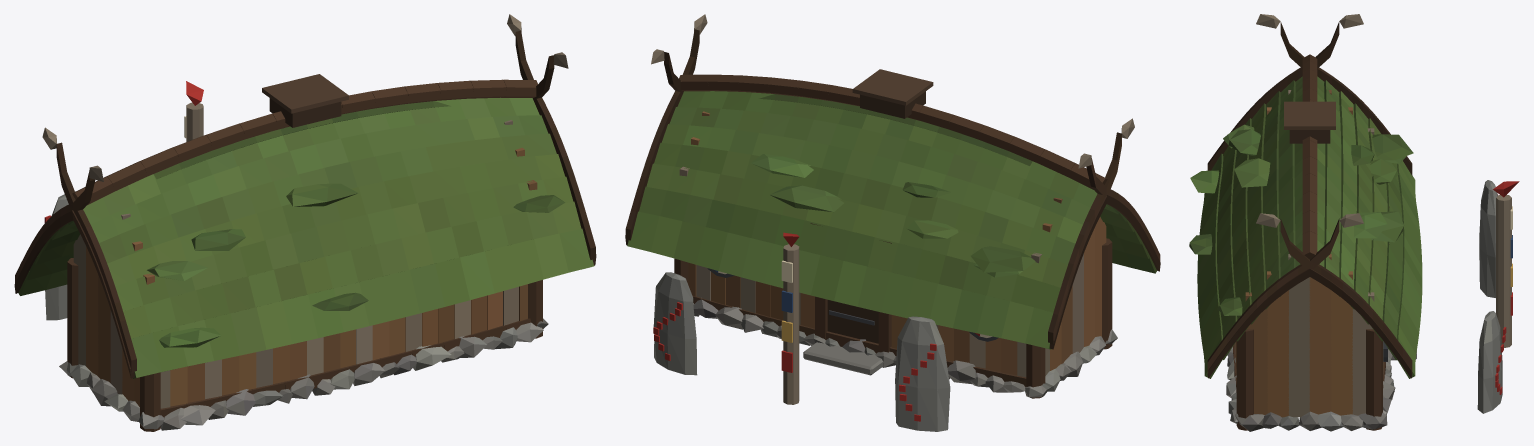
Rendered from LoreHall.glb.
3 views of the same model, side by side, from view 1: azimuth 30°, elevation 25°; view 2: azimuth 150°, elevation 25°; view 3: azimuth 270°, elevation 25° (orthographic). The views are drawn at different scales.
Visible parts, largest first — view 1: Mat_Leaves_526a34, Mat_Wood_71563e, Mat_Wood_483222, Mat_Wood_3b291c, Mat_Stone_7e7c76, Mat_Stone_6b6964, Mat_Leaves_3d4e26, Mat_Leaves_425429, Mat_Thatch_a58b5e, Mat_Thatch_887965; view 2: Mat_Leaves_526a34, Mat_Wood_71563e, Mat_Stone_7e7c76, Mat_Wood_3b291c, Mat_Wood_483222, Mat_Stone_6b6964, Mat_Leaves_425429, Mat_Leaves_3d4e26, Mat_Cloth_cb957e, Mat_Cloth_a82c26; view 3: Mat_Leaves_526a34, Mat_Wood_71563e, Mat_Wood_3b291c, Mat_Wood_483222, Mat_Stone_7e7c76, Mat_Leaves_425429, Mat_Stone_6b6964, Mat_Leaves_3d4e26, Mat_Cloth_cb957e.
Boxes of the visible parts, <box> form: Mat_Leaves_526a34: <box>46,97,593,377</box>; Mat_Wood_71563e: <box>20,14,568,408</box>; Mat_Wood_483222: <box>67,80,542,431</box>; Mat_Wood_3b291c: <box>14,30,596,417</box>; Mat_Stone_7e7c76: <box>51,191,543,430</box>; Mat_Stone_6b6964: <box>45,287,548,419</box>; Mat_Leaves_3d4e26: <box>27,101,553,280</box>; Mat_Leaves_425429: <box>18,101,565,378</box>; Mat_Thatch_a58b5e: <box>307,300,470,375</box>; Mat_Thatch_887965: <box>205,359,221,399</box>; Mat_Leaves_526a34: <box>627,91,1097,348</box>; Mat_Wood_71563e: <box>651,14,1149,404</box>; Mat_Stone_7e7c76: <box>653,272,1117,431</box>; Mat_Wood_3b291c: <box>625,29,1160,386</box>; Mat_Wood_483222: <box>674,75,1112,398</box>; Mat_Stone_6b6964: <box>693,297,1077,396</box>; Mat_Leaves_425429: <box>759,94,1156,349</box>; Mat_Leaves_3d4e26: <box>774,94,1131,270</box>; Mat_Cloth_cb957e: <box>669,232,992,372</box>; Mat_Cloth_a82c26: <box>653,315,936,383</box>; Mat_Leaves_526a34: <box>1190,76,1422,375</box>; Mat_Wood_71563e: <box>1217,14,1511,417</box>; Mat_Wood_3b291c: <box>1207,21,1412,387</box>; Mat_Wood_483222: <box>1233,54,1382,430</box>; Mat_Stone_7e7c76: <box>1226,180,1502,431</box>; Mat_Leaves_425429: <box>1189,97,1414,378</box>; Mat_Stone_6b6964: <box>1227,184,1492,431</box>; Mat_Leaves_3d4e26: <box>1216,80,1401,359</box>; Mat_Cloth_cb957e: <box>1493,181,1519,351</box>.
Bounding box in the file's own units: 21.26 × 11.5 × 14.65.
1 material, 1 textured.
